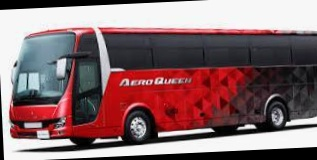bus: (7, 14, 317, 147)
